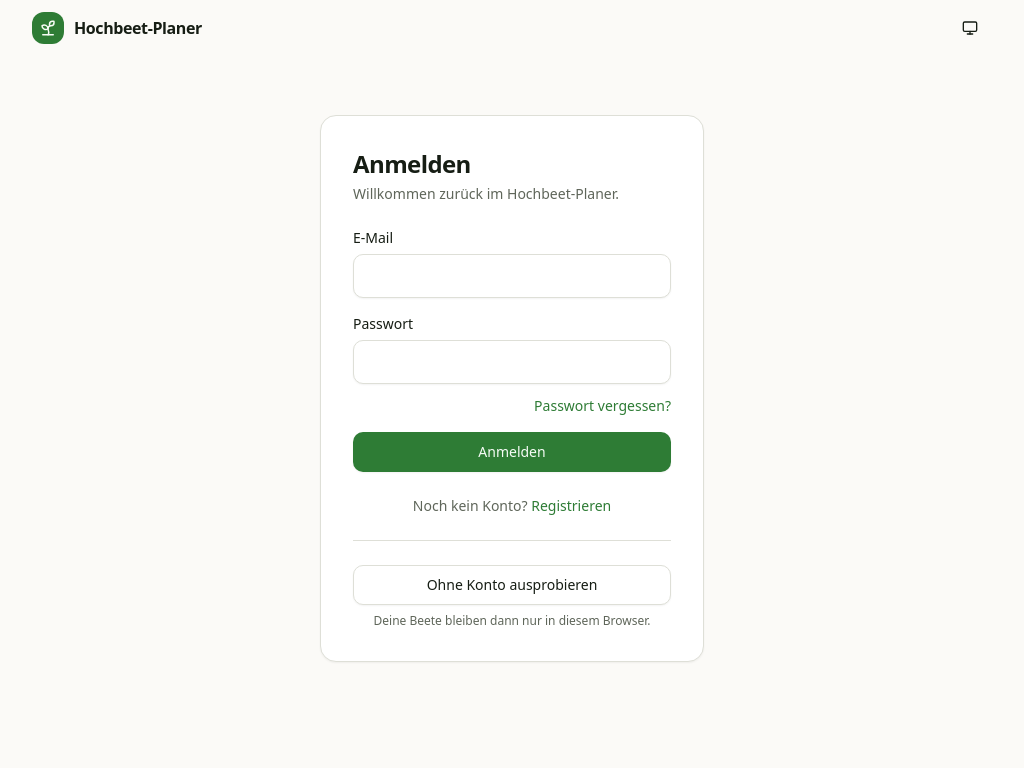
Test case: App › guest mode › starts from the sign-in page without any request to the services
Click the button "Ohne Konto ausprobieren" at (512, 584), box [353, 564, 671, 604]
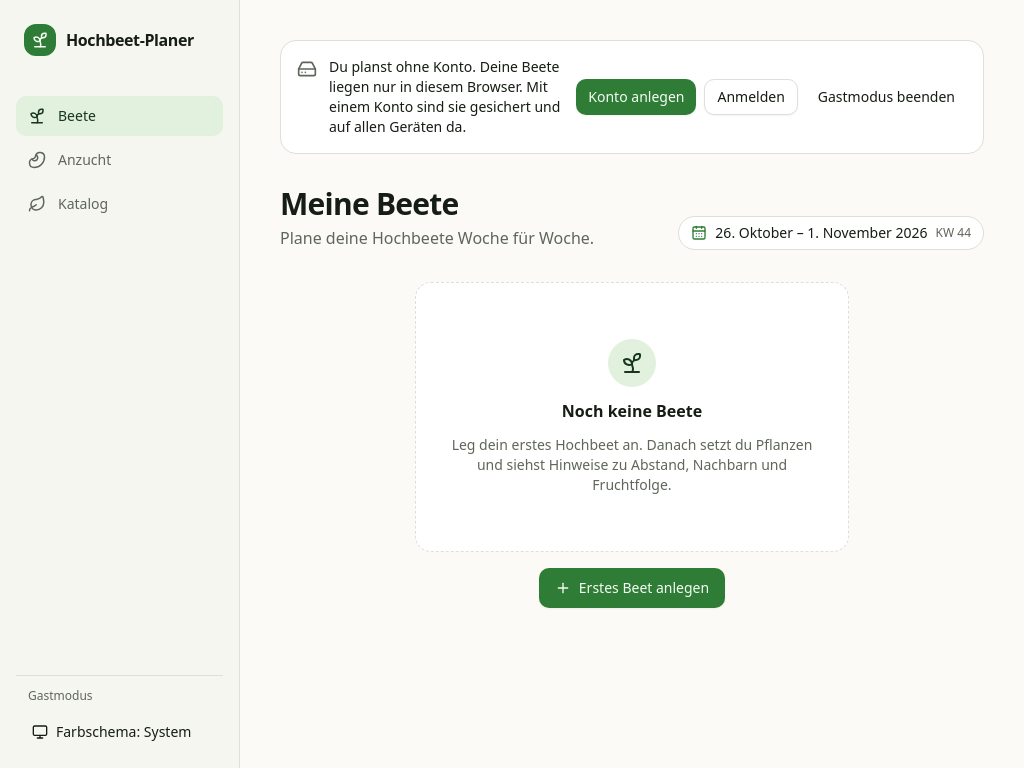
Expected: the heading "Meine Beete" is shown, [280, 183, 458, 224]
Expected: the element with test id "guest-banner" shows "nur in diesem Browser", [329, 57, 560, 136]
Expected: the links read "Beete", "Anzucht", "Katalog", in this order, [16, 96, 223, 136]; [28, 150, 111, 169]; [28, 194, 108, 213]
